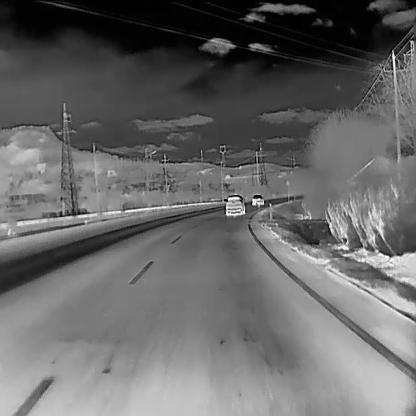car: (225, 195, 245, 216), (251, 192, 264, 206)
